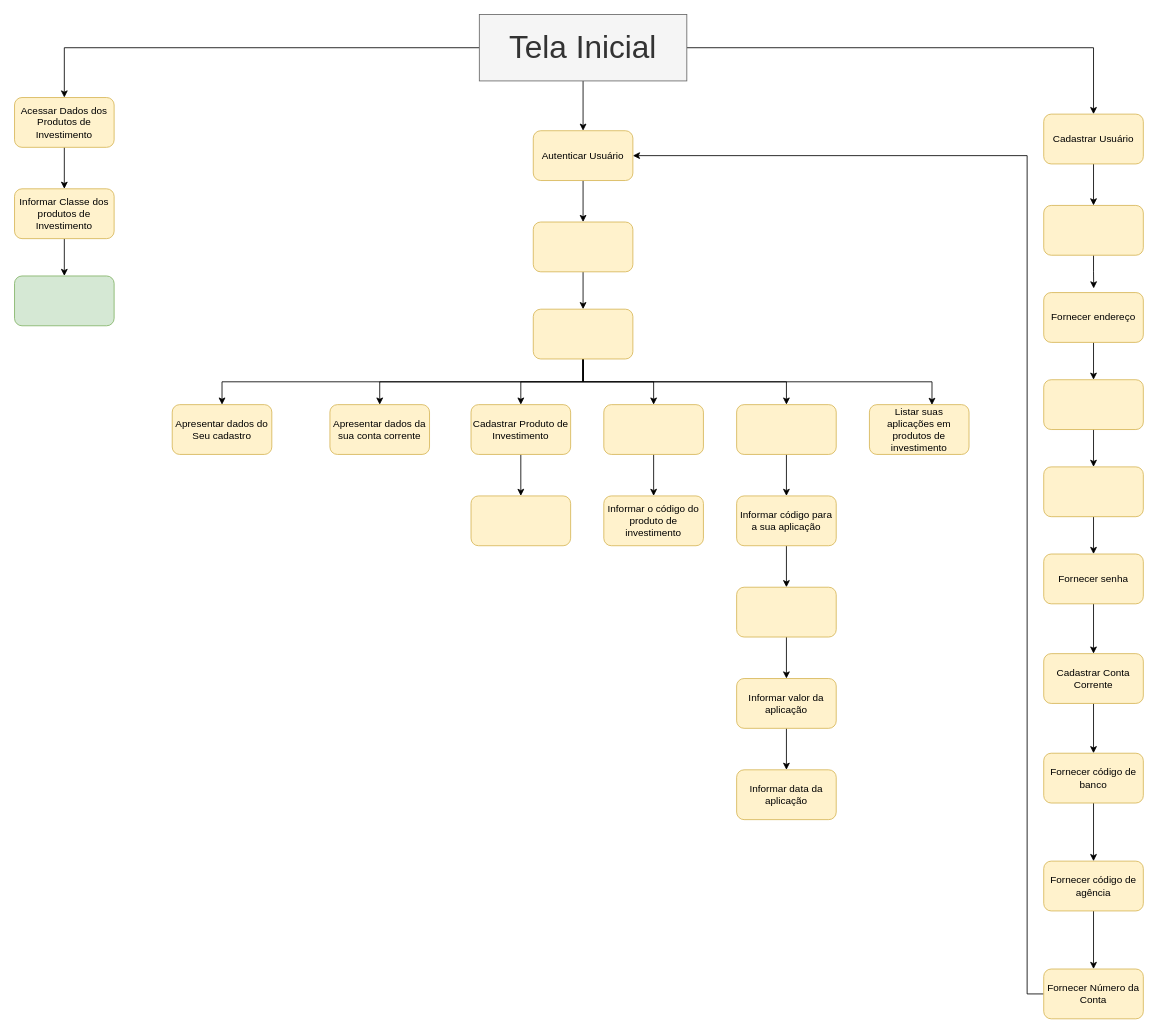
Image size: 1158x1033. Some labels were removed from this diagram. Here are the shapes that lost their labels. From the top down, the box of each, then its label:
(532, 221, 633, 272): Informar CPF
(1043, 205, 1143, 255): Fornecer Nome
(14, 275, 114, 326): Apresenta os dados de cada produto de investimento dessa classe
(532, 308, 633, 359): Informar Senha
(1043, 379, 1143, 430): Fornecer CEP
(603, 404, 703, 454): Descadastrar Produto de Investimento
(736, 404, 836, 454): Realizar aplicação em Produto de Investimento
(1043, 466, 1143, 517): Fornecer CPF
(470, 495, 571, 546): Informar dados do produto de Investimento
(736, 586, 836, 637): Informar código do produto de investimento
